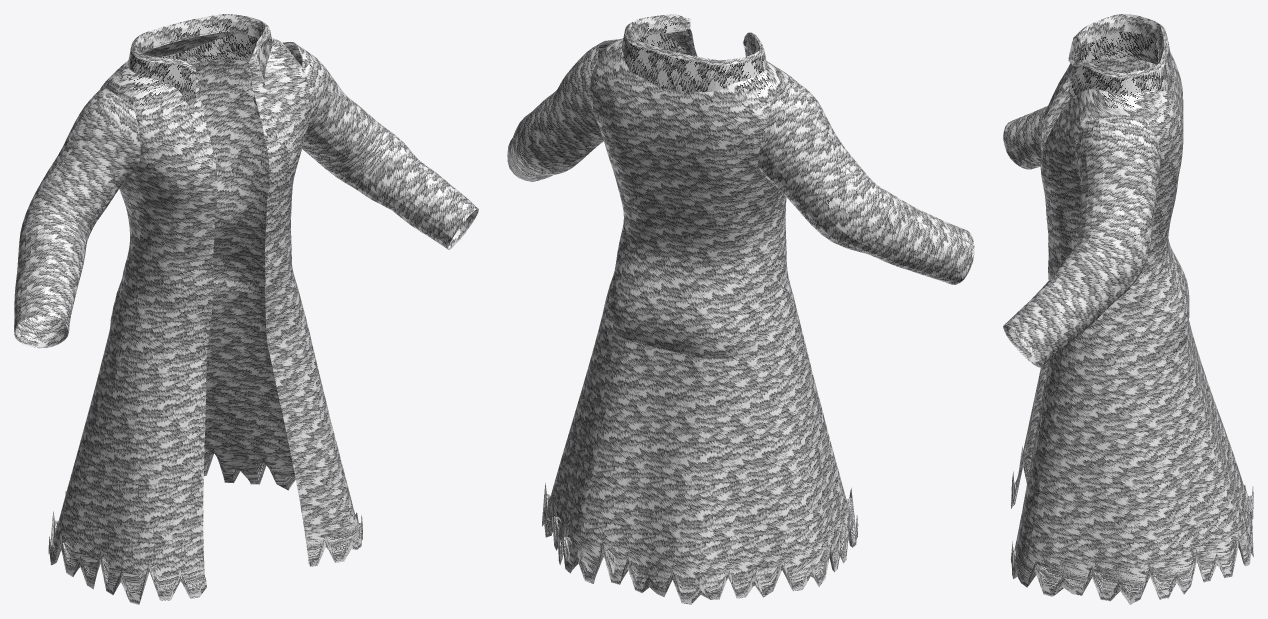
Rendered from ewb_krampus_open.glb.
3 renders of one model, left to right at view 1: azimuth 30°, elevation 25°; view 2: azimuth 150°, elevation 25°; view 3: azimuth 270°, elevation 25°, orthographic. The views are drawn at different scales.
Visible parts, largest first — view 1: ewb_krampus_open; view 2: ewb_krampus_open; view 3: ewb_krampus_open.
Boxes of the visible parts, x1,y1,x2,y2 form: ewb_krampus_open: [14, 14, 478, 604]; ewb_krampus_open: [507, 14, 974, 604]; ewb_krampus_open: [1003, 14, 1253, 604].
Size of the model in its own units: 1.15 by 1.21 by 0.5526.
1 material, 1 textured.
